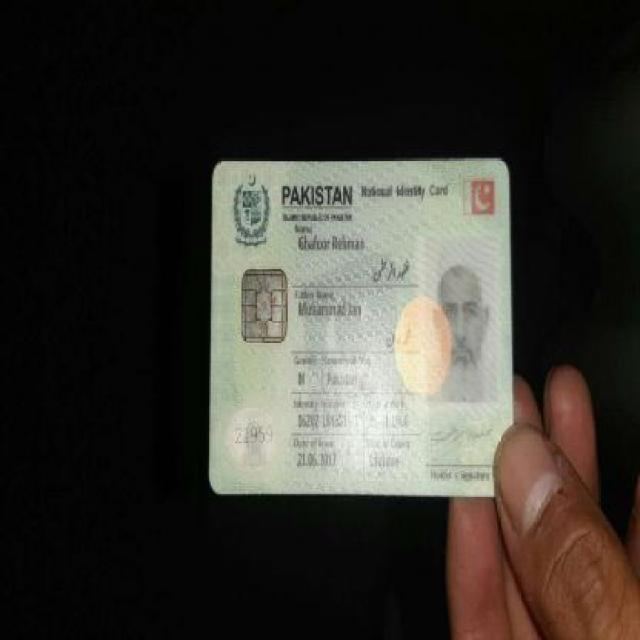Front: (208, 156, 522, 507)
